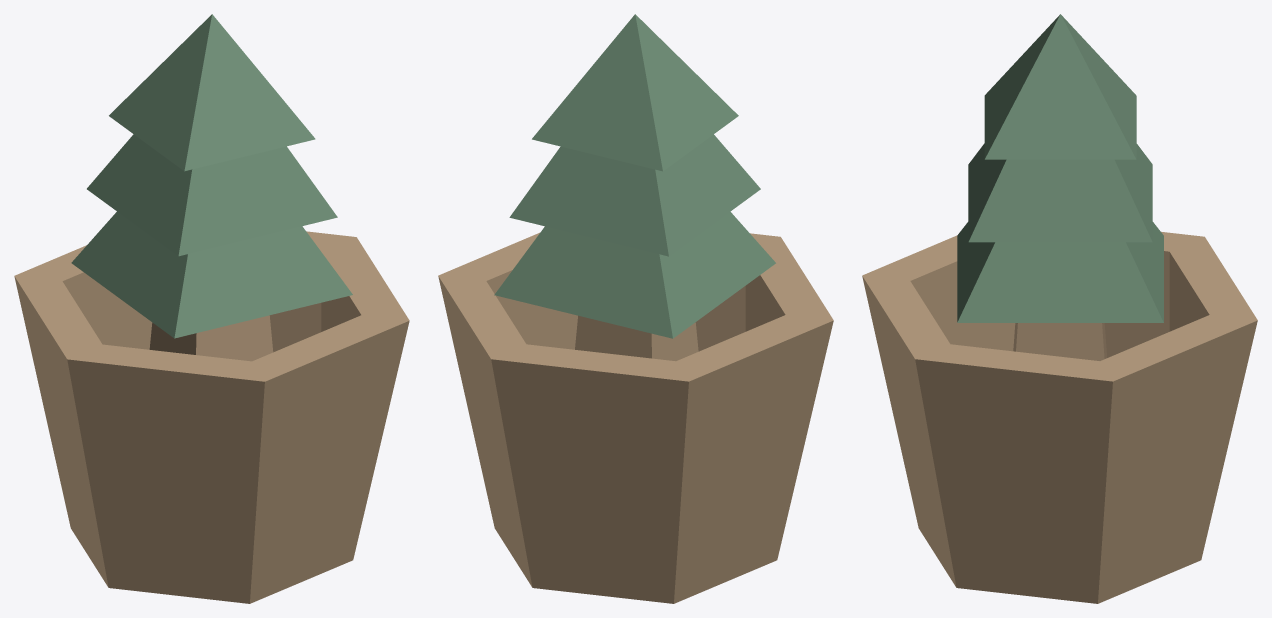
The model's file is plantSmall1.glb.
3 views of the same model, side by side, from view 1: azimuth 30°, elevation 25°; view 2: azimuth 150°, elevation 25°; view 3: azimuth 270°, elevation 25° (orthographic).
Parts seen in each view (by area): view 1: plantSmall1(Clone); view 2: plantSmall1(Clone); view 3: plantSmall1(Clone).
Boxes of the visible parts, x1,y1,x2,y2 form: plantSmall1(Clone): (14,14,409,603); plantSmall1(Clone): (438,14,833,603); plantSmall1(Clone): (862,14,1257,603).
Bounding box in the file's own units: 0.0947 × 0.14 × 0.0947.
